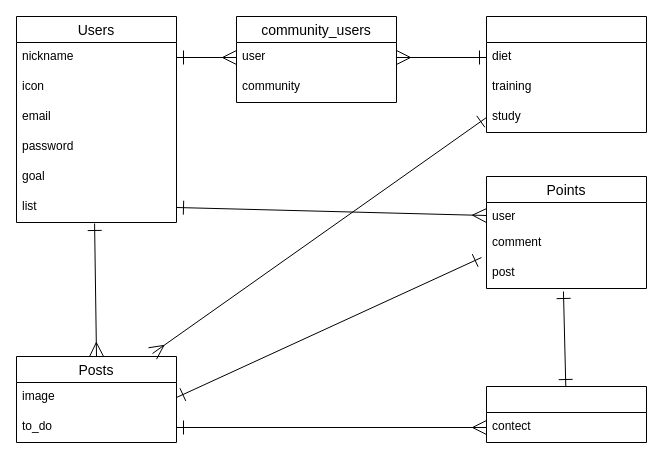
Image size: 663x459. Some labels were removed from this diagram. Each missing label, with the box of its shape:
Comments: (486, 386, 646, 442)
Communities: (486, 16, 646, 132)
